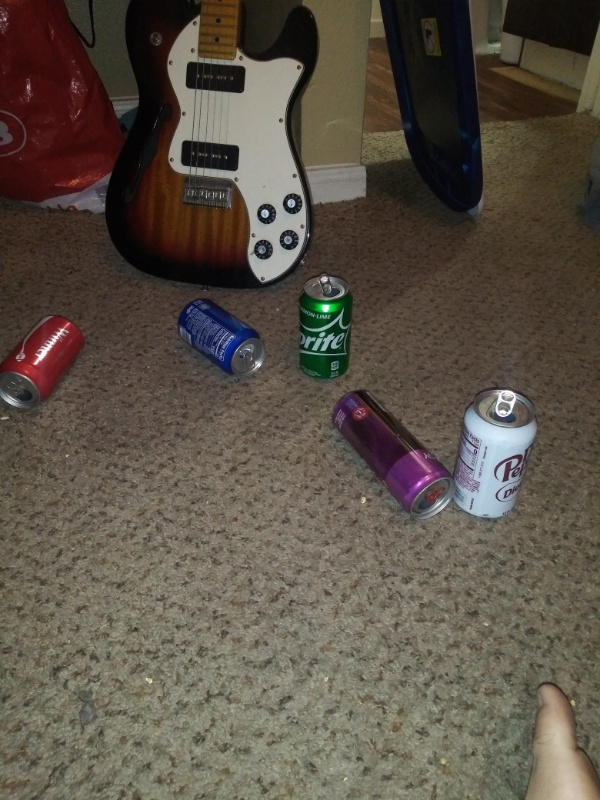can: (321, 385, 458, 523), (435, 385, 544, 524), (2, 310, 92, 412), (172, 294, 270, 381), (291, 272, 356, 388)
